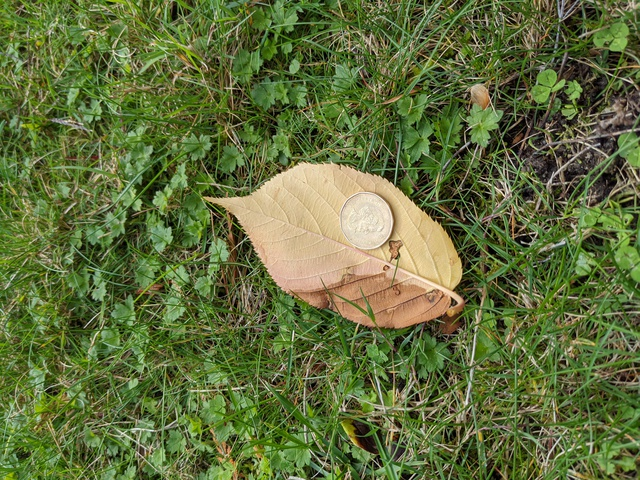loonie: (335, 186, 396, 250)
